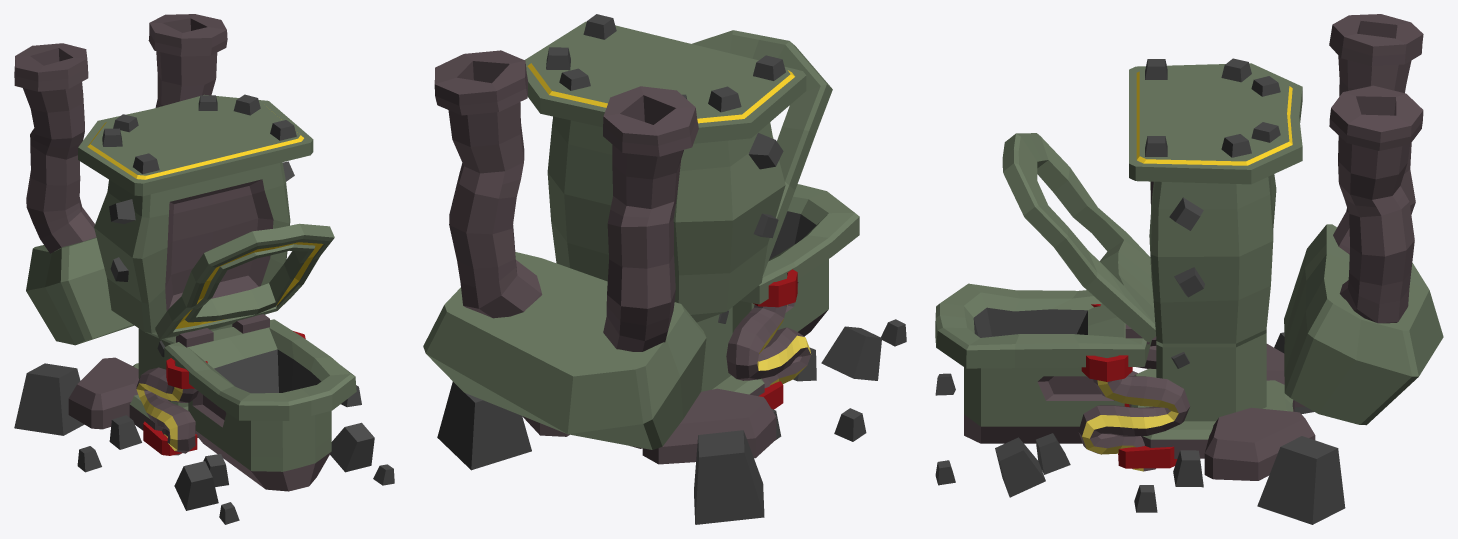
Rendered from toilet1.fbx.
The picture shows the model from 3 angles, left to right: view 1: azimuth 30°, elevation 25°; view 2: azimuth 150°, elevation 25°; view 3: azimuth 270°, elevation 25°; orthographic projection. The views are drawn at different scales.
Parts seen in each view (by area): view 1: toilet_base, toilet_lid; view 2: toilet_base, toilet_lid; view 3: toilet_base, toilet_lid.
Part boxes in pixels (x1,y1,x2,y2): toilet_base: (14, 14, 394, 524); toilet_lid: (155, 223, 334, 339); toilet_base: (423, 14, 906, 524); toilet_lid: (692, 30, 832, 274); toilet_base: (935, 14, 1443, 524); toilet_lid: (1002, 133, 1155, 342).
Size of the model in its own units: 6.66 by 7.92 by 9.24.
